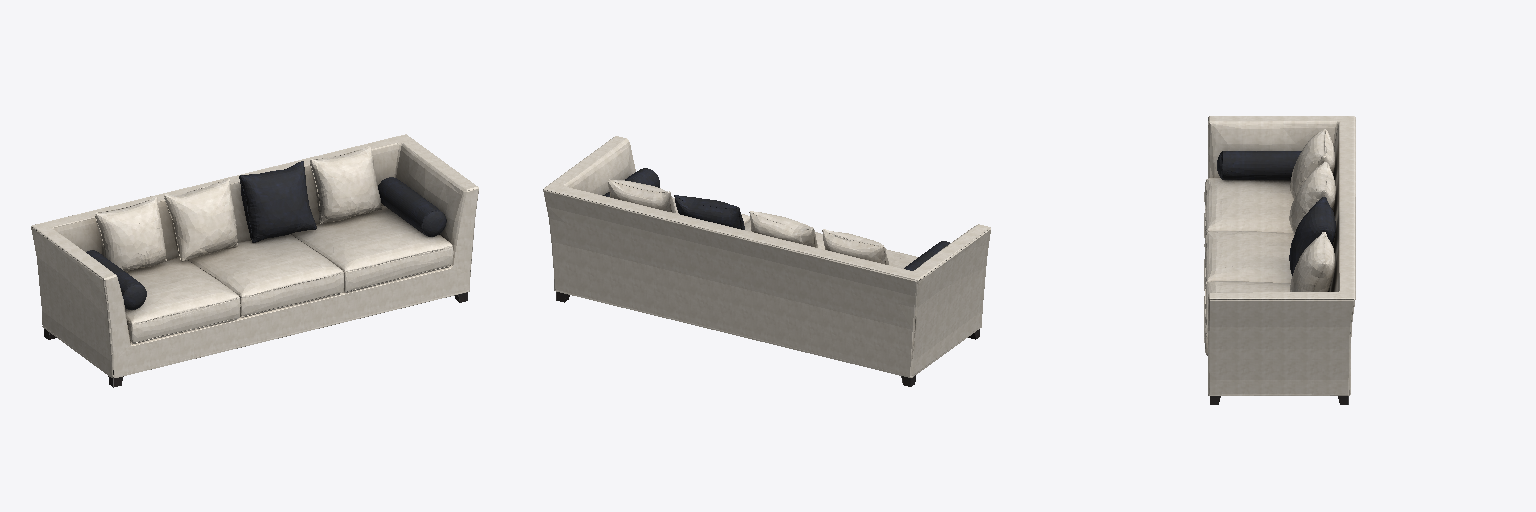
3 renders of one model, left to right at view 1: azimuth 30°, elevation 25°; view 2: azimuth 150°, elevation 25°; view 3: azimuth 270°, elevation 25°, orthographic.
Parts seen in each view (by area): view 1: solid_002, solid_001; view 2: solid_002, solid_001; view 3: solid_002, solid_001.
Boxes of the visible parts, box(x1,y1,x2,y2) form: solid_002: box(31, 134, 478, 377); solid_001: box(86, 161, 446, 309); solid_002: box(543, 136, 990, 377); solid_001: box(603, 168, 949, 270); solid_002: box(1204, 116, 1355, 395); solid_001: box(1217, 151, 1335, 275).
Bounding box in the file's own units: 2.49 × 0.7944 × 0.8657.
Materials: 1 (1 with a texture image).